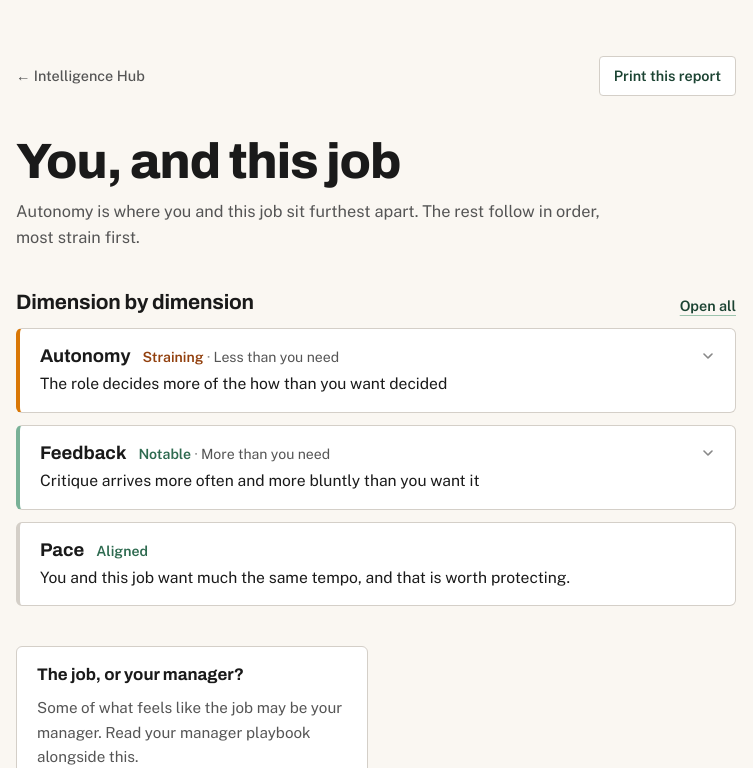
Test: SituationReportPage › complete › routes the manager links to the playbook when a profile exists
Expected: the heading "You, and this job" is shown, 16,134 -> 400,188
Click the button named "Show guidance for" in the row of "Less than you need" at (378, 371), box 20,329 -> 735,412
(page scrolled)
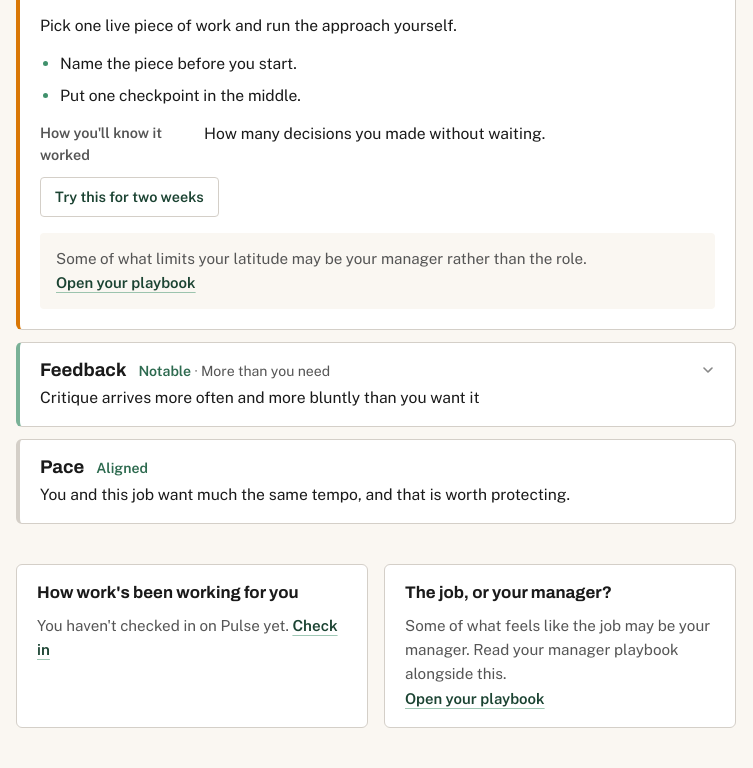
Click the button named "Show guidance for" at (378, 384), box 20,343 -> 735,426
(page scrolled)
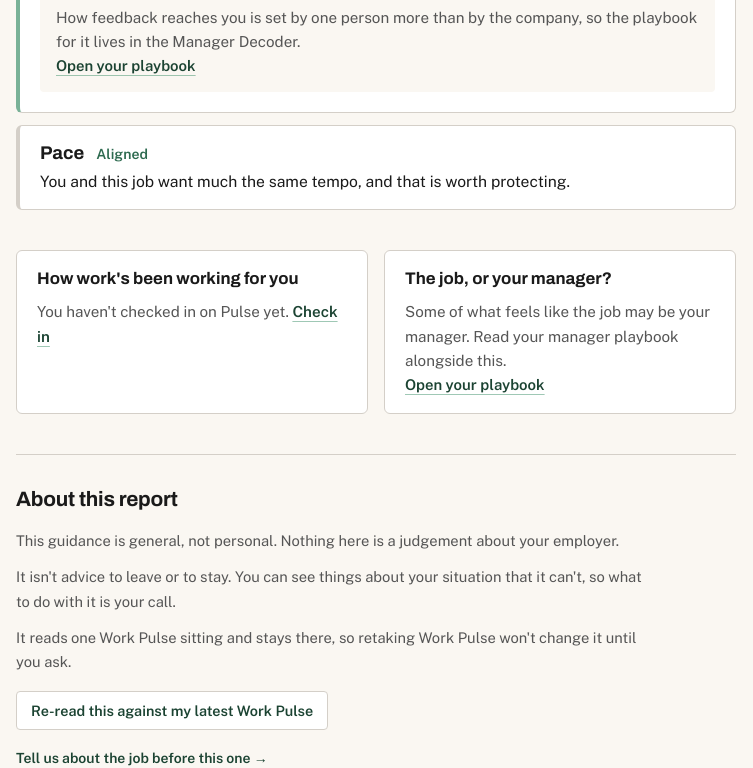
Expected: the number of links "Open your playbook" is 3
